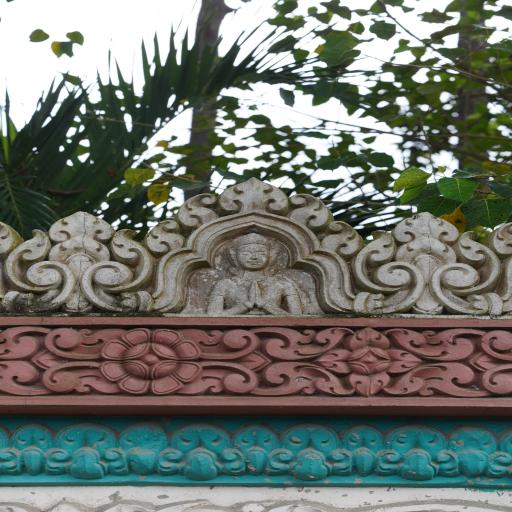hoa: (100, 326, 204, 393), (320, 330, 420, 399)
la: (351, 205, 504, 314), (10, 212, 156, 312), (132, 423, 246, 481), (33, 420, 146, 478), (253, 424, 359, 472), (373, 424, 464, 479), (414, 358, 491, 400), (220, 172, 284, 216), (414, 326, 486, 360), (257, 324, 321, 362), (260, 360, 319, 398), (42, 328, 108, 360), (44, 358, 103, 392), (202, 359, 258, 393), (0, 358, 49, 396), (288, 186, 329, 231), (0, 324, 50, 360), (204, 329, 262, 360), (175, 192, 217, 230), (144, 217, 189, 250), (319, 216, 356, 254), (479, 360, 512, 395), (481, 328, 512, 360), (487, 216, 512, 251), (0, 220, 21, 258)
than: (209, 230, 300, 318)
